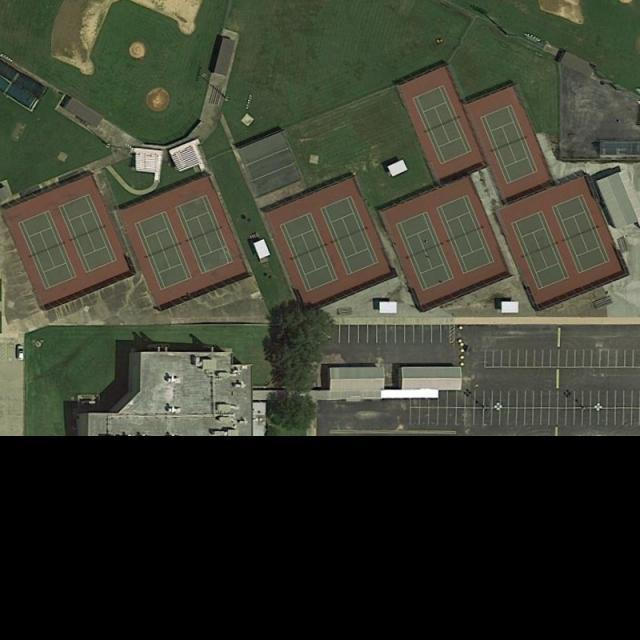vehicle: (17, 346, 24, 362)
